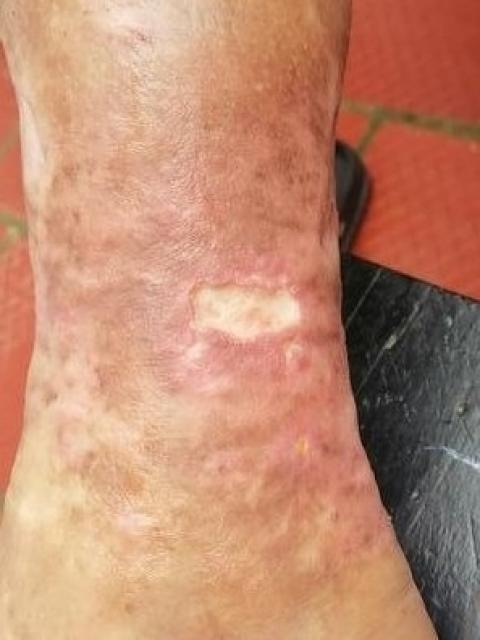wound: (187, 281, 301, 344)
